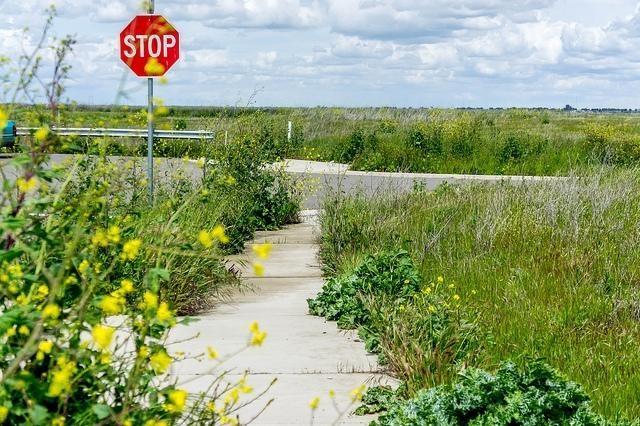car: (0, 121, 16, 146)
